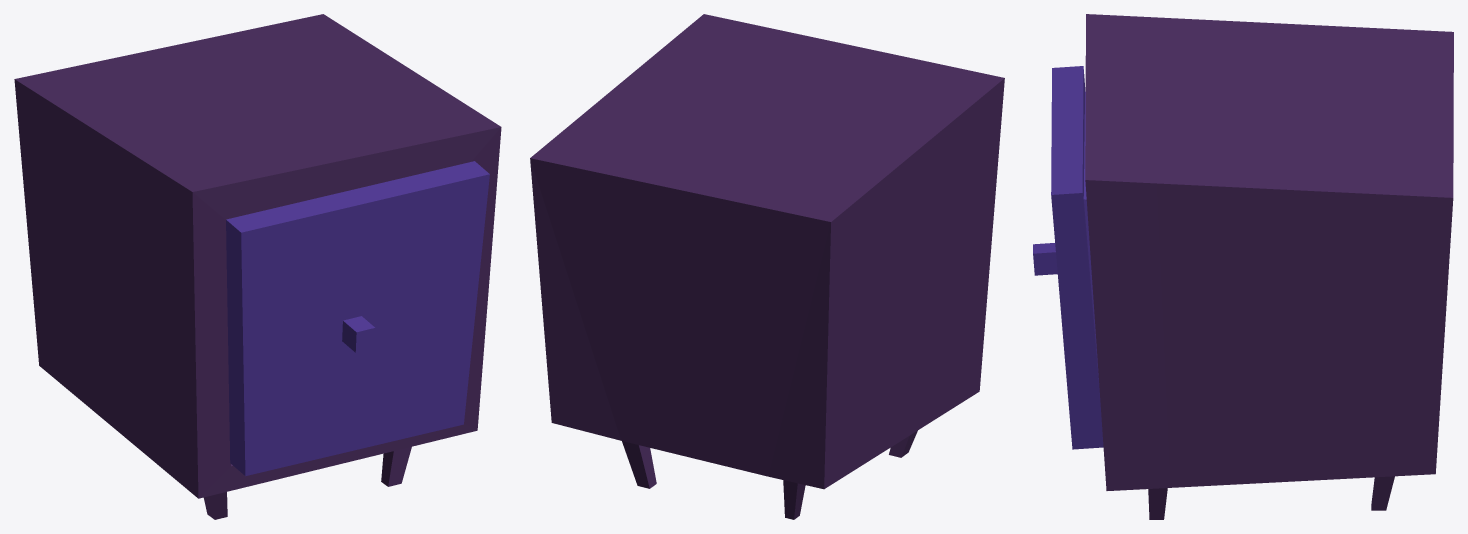
The model's file is vault.fbx.
The picture shows the model from 3 angles, left to right: view 1: azimuth 30°, elevation 25°; view 2: azimuth 150°, elevation 25°; view 3: azimuth 270°, elevation 25°; orthographic projection. The views are drawn at different scales.
Visible parts, largest first — view 1: vault, vault_door; view 2: vault; view 3: vault, vault_door.
Boxes of the visible parts, bbox=[...] form: vault: bbox=[14, 14, 501, 519]; vault_door: bbox=[226, 161, 489, 476]; vault: bbox=[530, 14, 1004, 519]; vault: bbox=[1085, 14, 1453, 519]; vault_door: bbox=[1033, 66, 1103, 449].
Size of the model in its own units: 70.47 by 81.27 by 80.53.
